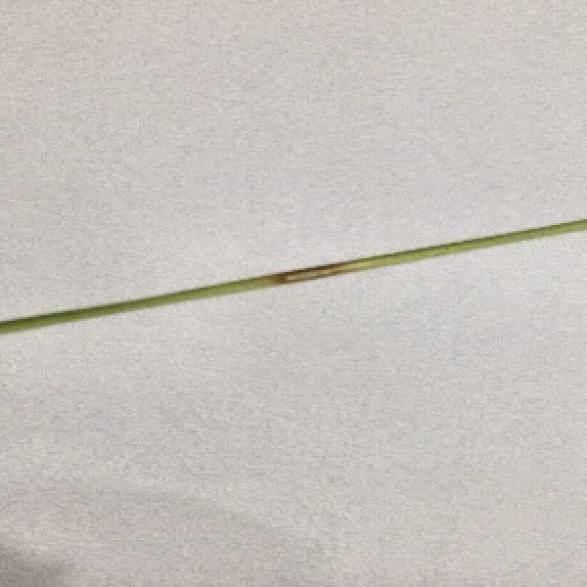Leaf_smut: (260, 260, 342, 286)
